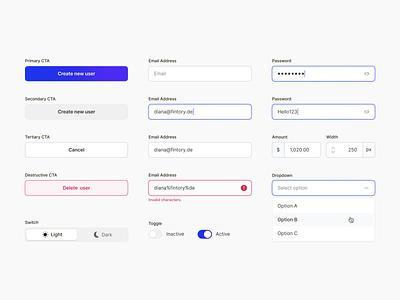button: (26, 104, 130, 122), (26, 142, 129, 159), (25, 67, 129, 83), (25, 181, 129, 197), (79, 228, 130, 243), (27, 228, 79, 242)
dropdown: (273, 181, 377, 197), (326, 142, 364, 159)
input: (149, 142, 253, 160), (272, 66, 378, 83), (149, 66, 254, 83), (149, 104, 254, 121), (272, 104, 377, 121), (149, 181, 253, 197), (285, 142, 322, 159)
label: (149, 172, 178, 179), (26, 97, 57, 103), (149, 97, 177, 103), (25, 173, 58, 178), (24, 59, 51, 65), (25, 135, 52, 141), (148, 59, 178, 64), (166, 232, 186, 238), (149, 136, 178, 140), (272, 174, 295, 179), (272, 59, 293, 64), (272, 97, 293, 102), (148, 222, 164, 227), (25, 221, 40, 226), (272, 136, 290, 140), (217, 233, 231, 238), (326, 136, 340, 141)
switch: (197, 230, 213, 240), (148, 231, 165, 240)
